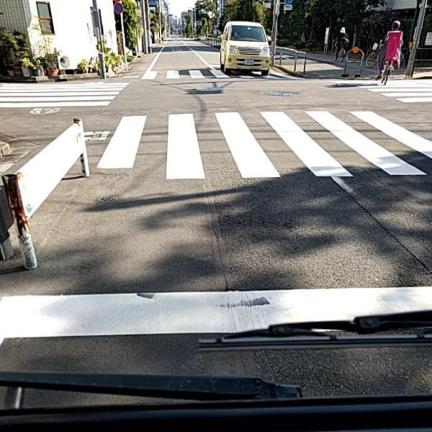Road: (0, 40, 431, 395)
